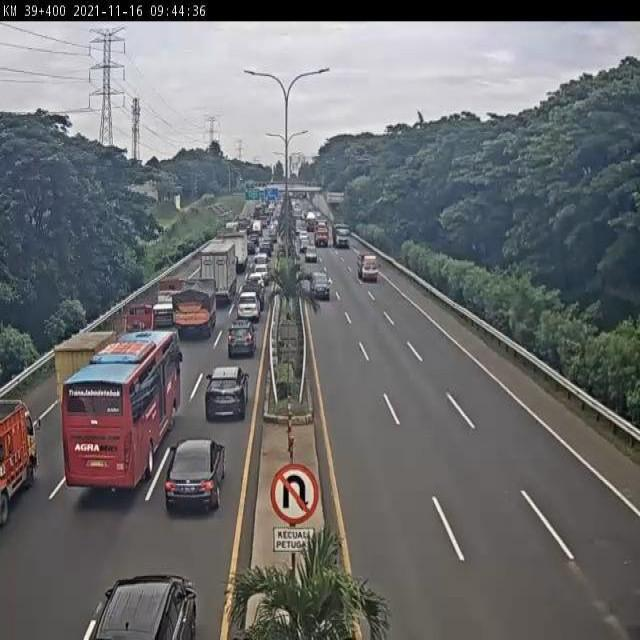car: (162, 449, 223, 527), (203, 371, 247, 428), (225, 323, 254, 363), (236, 295, 258, 325), (311, 267, 329, 299), (242, 284, 265, 307), (247, 271, 266, 291)
truck: (64, 331, 184, 491), (46, 339, 113, 409), (195, 239, 237, 304), (175, 284, 216, 337), (151, 281, 186, 331), (111, 305, 151, 347)
